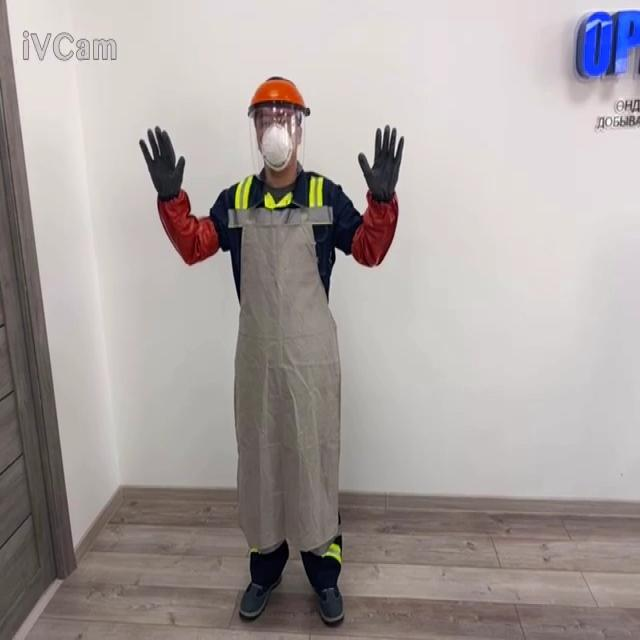Gloves: (357, 124, 404, 203), (138, 126, 185, 202)
Mask: (258, 120, 293, 172)
Protective apron: (227, 200, 342, 556)
Safety Shoes: (238, 573, 282, 619), (313, 584, 344, 623)
Sleeve: (156, 187, 219, 265), (350, 188, 398, 267)
